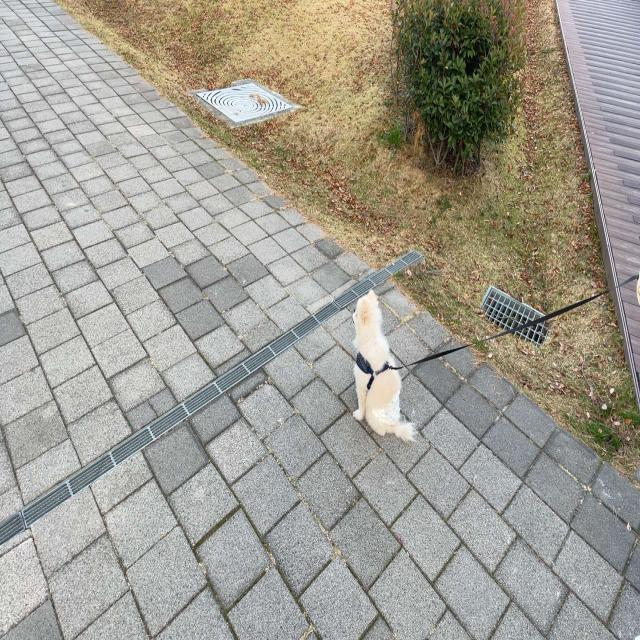Dog: (351, 287, 418, 445)
